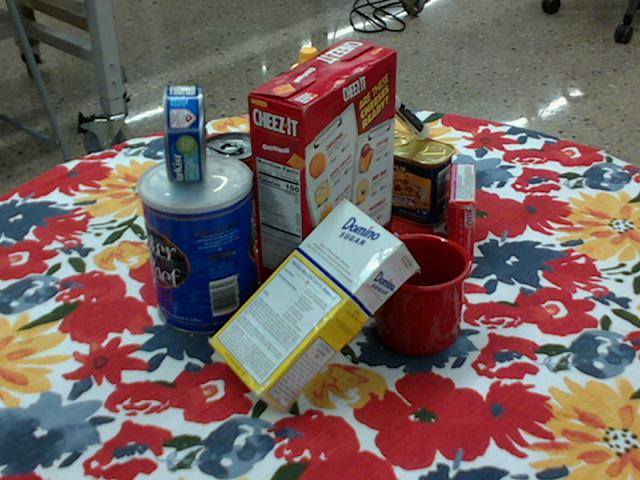cracker_box: (246, 40, 398, 310)
gelatin_box: (448, 162, 477, 262)
large_marker: (374, 83, 429, 138)
master_chef_can: (139, 154, 258, 337)
mug: (344, 232, 471, 355)
mustard_bottle: (273, 47, 355, 222)
potted_meat_can: (363, 127, 455, 226)
sugar_box: (209, 199, 419, 418)
tomato_soup_can: (200, 131, 268, 242)
tuna_fish_can: (164, 84, 206, 181)
